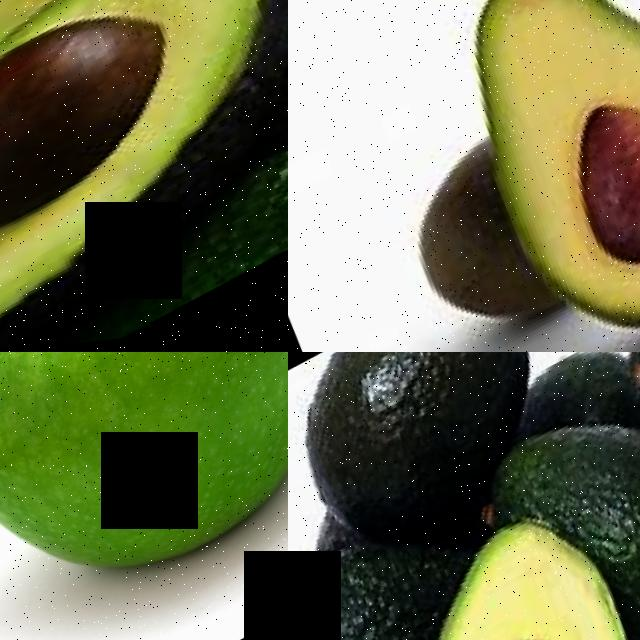apple: (0, 352, 288, 640)
avocado: (0, 0, 288, 352), (391, 0, 640, 352), (288, 352, 592, 574), (333, 474, 640, 640), (363, 123, 576, 352), (517, 352, 640, 640), (0, 0, 288, 119), (288, 533, 456, 640)
